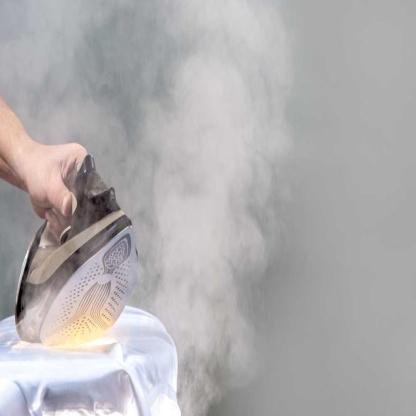smoke: (1, 3, 298, 416)
